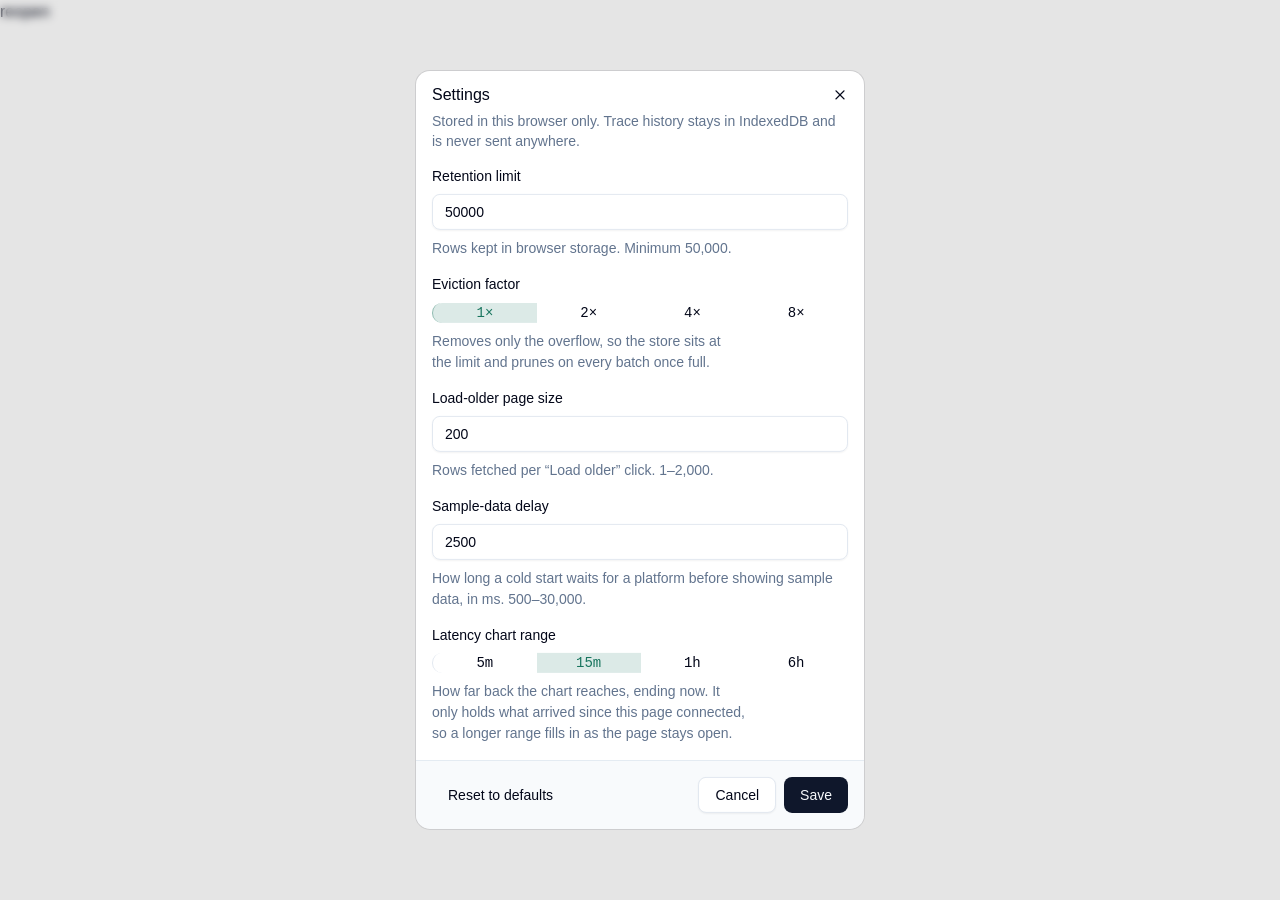
a limit the console cannot honour › blocks the save while any one field is bad, not just the one being typed
Replace the text in the number field labelled "Load-older page size" with "0" at (640, 434), box [432,416,848,452]
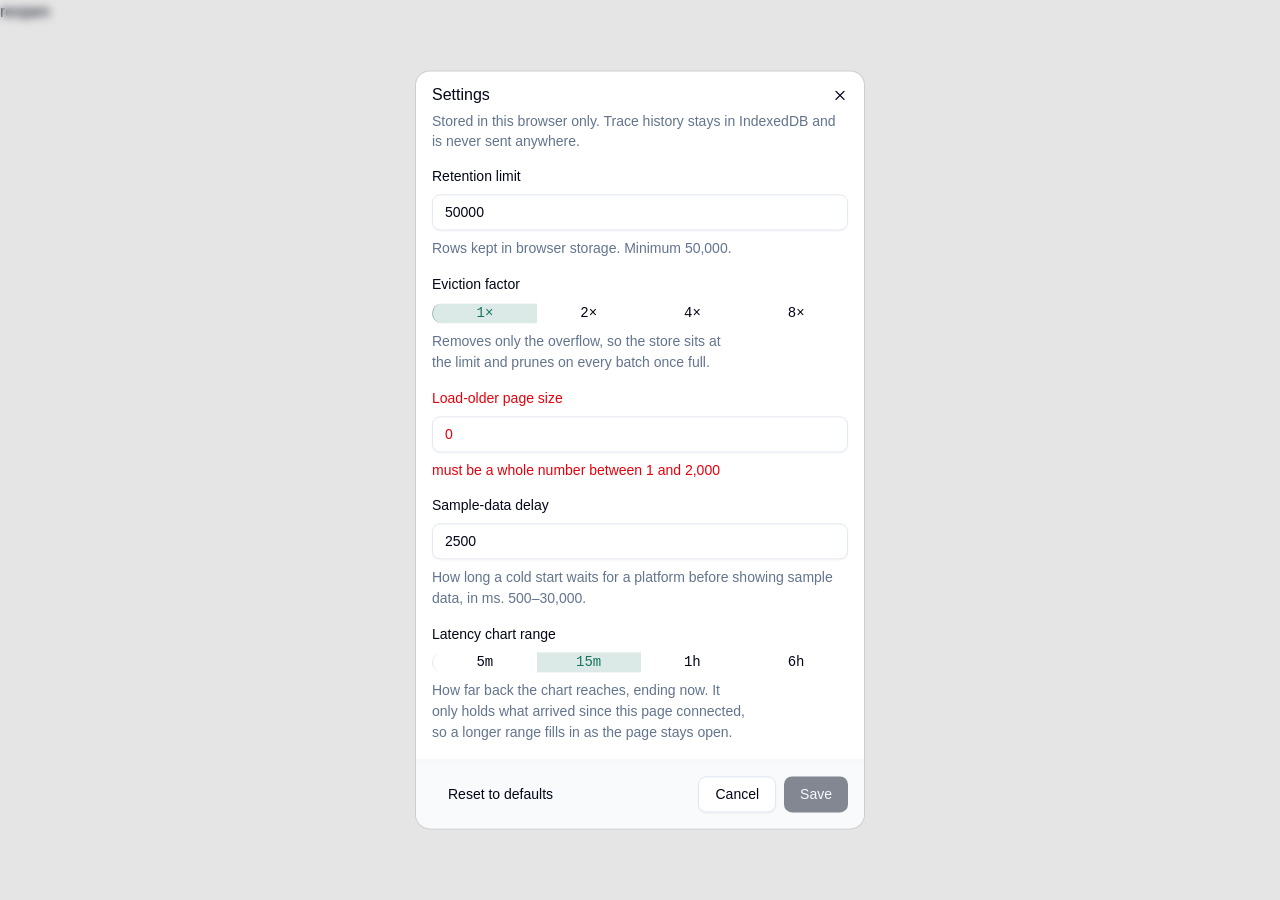
expect the button "Save" is disabled: met, box [784,777,848,813]
Replace the text in the number field labelled "Retention limit" with "90000" at (640, 213), box [432,195,848,231]
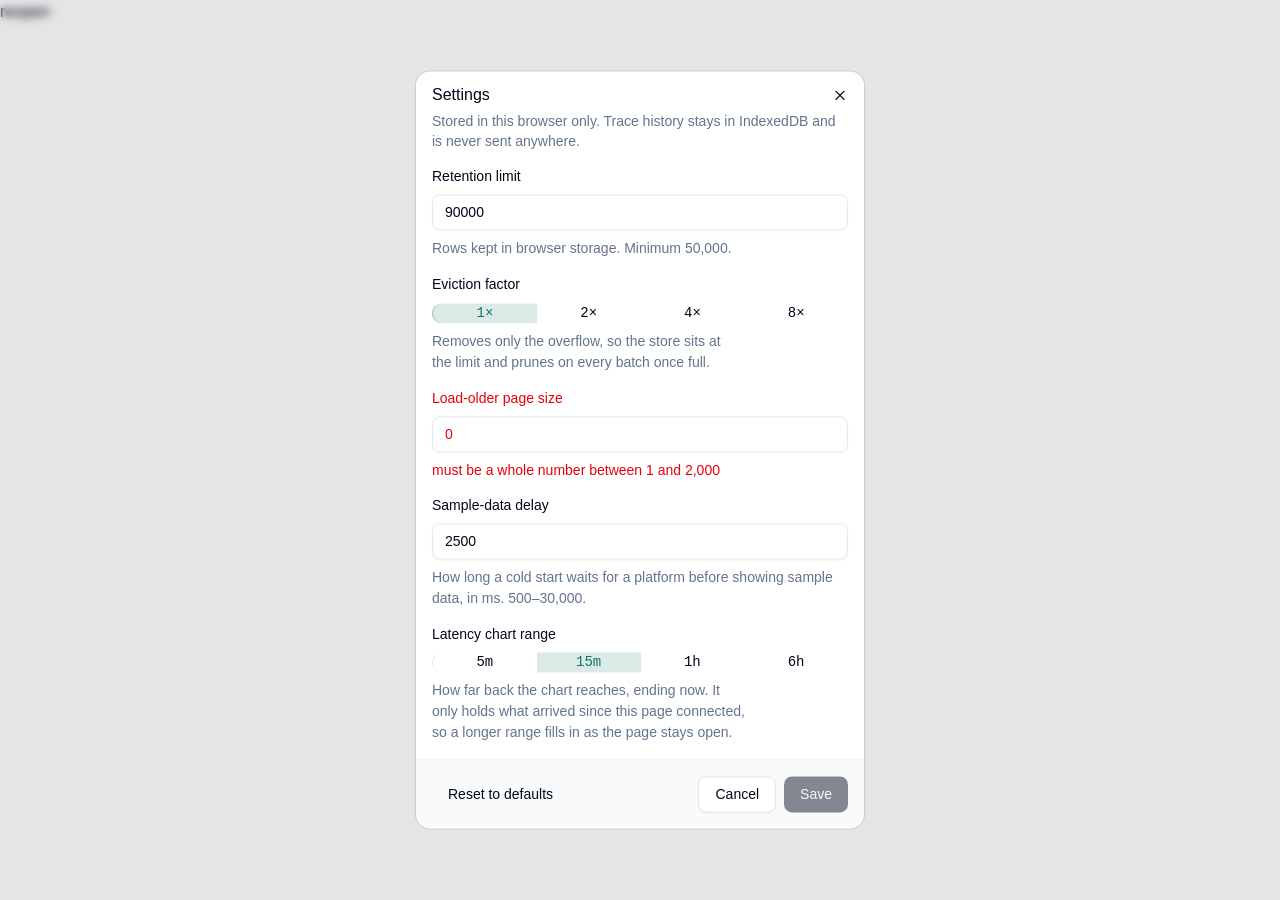
expect the button "Save" is disabled: met, box [784,777,848,813]
Replace the text in the number field labelled "Load-older page size" with "50" at (640, 434), box [432,416,848,452]
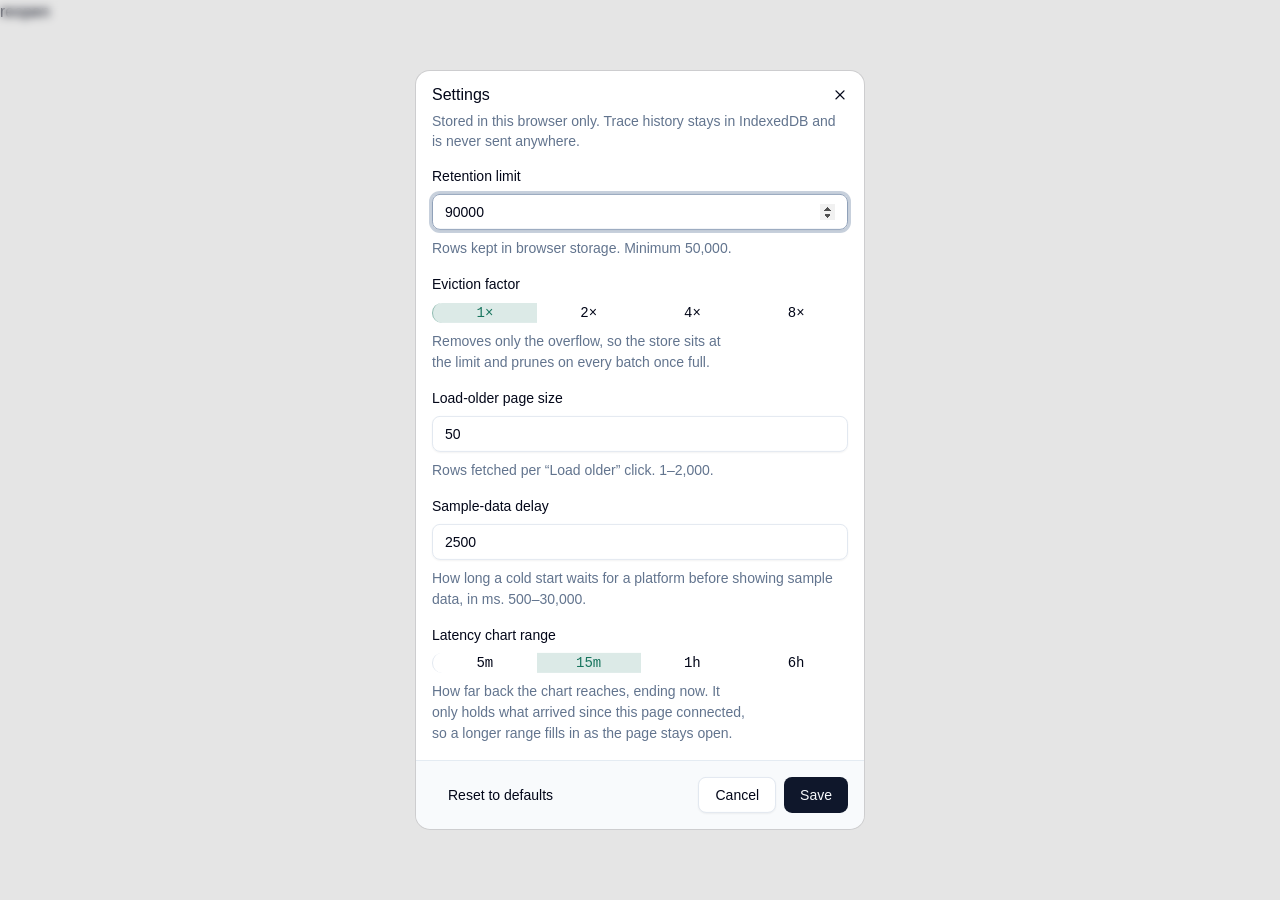
expect the button "Save" is enabled: met, box [784,777,848,813]
